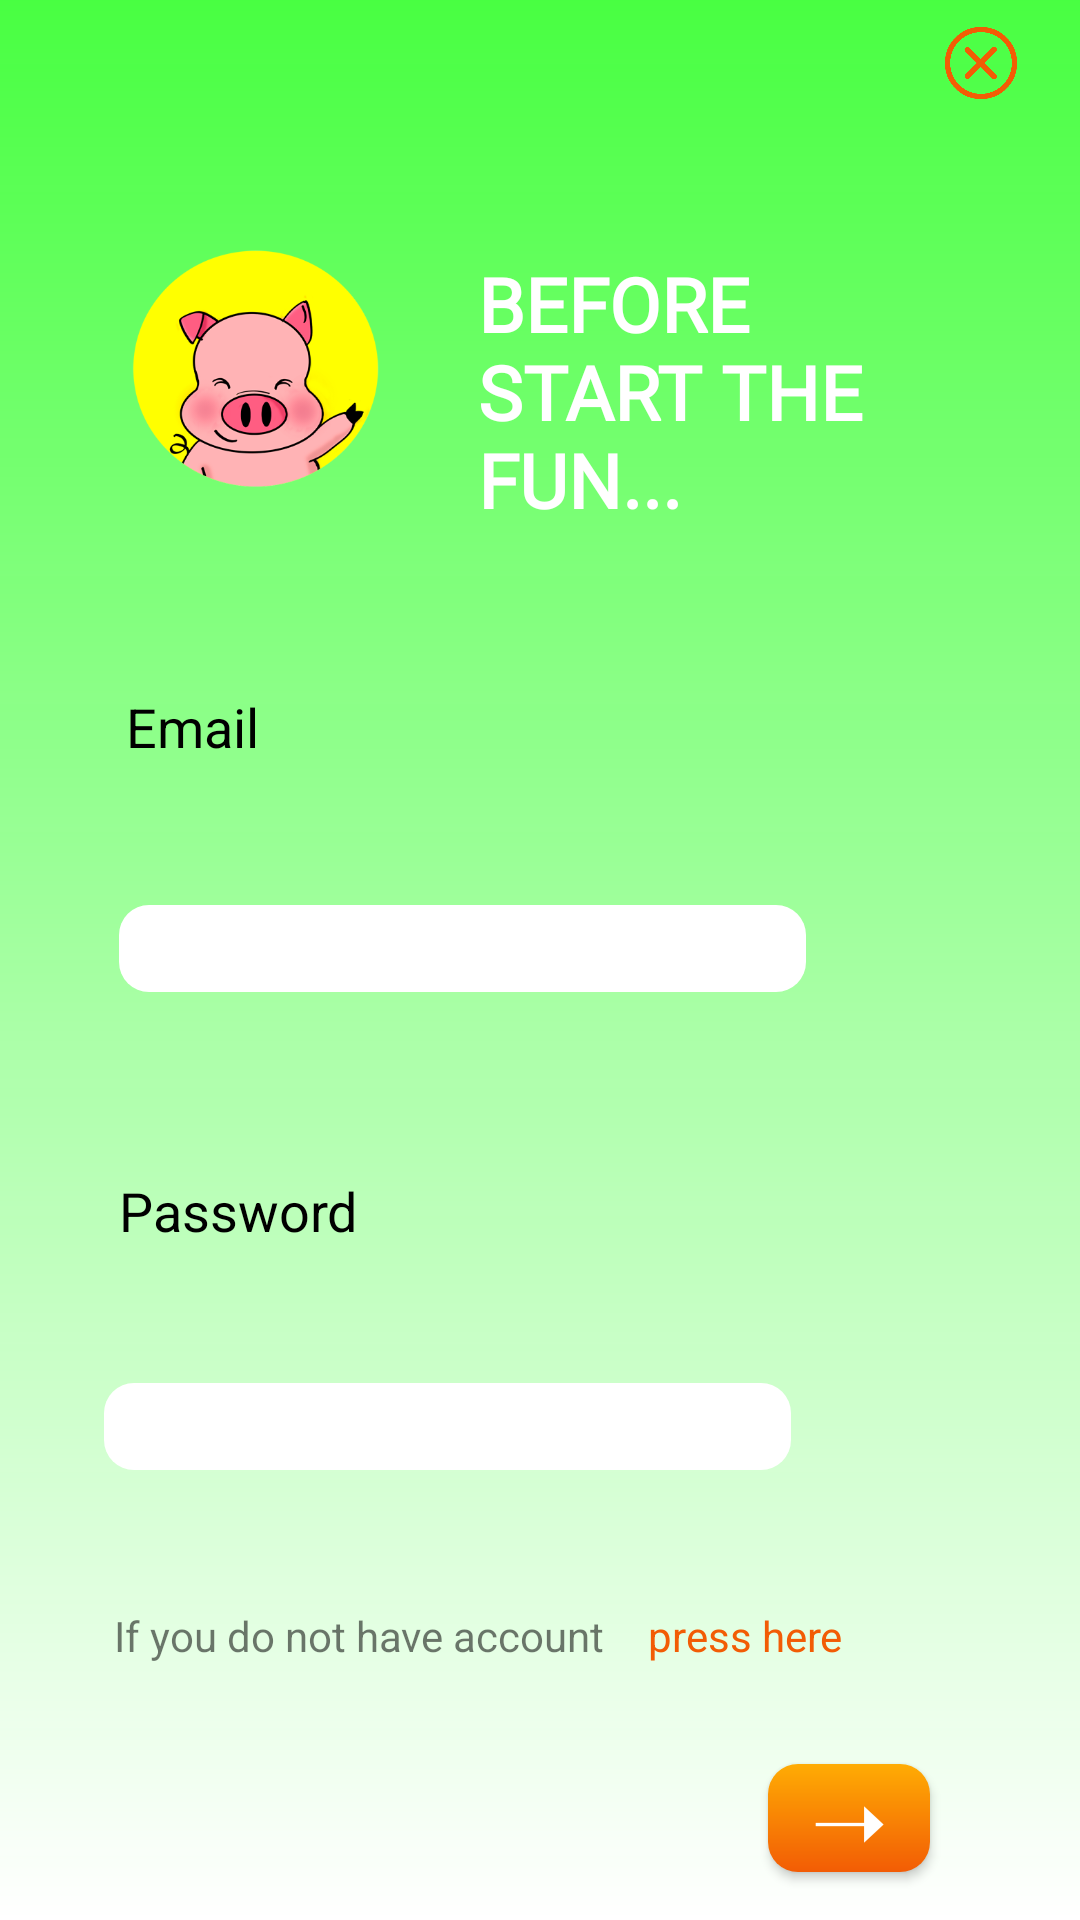

Screen size 1080×1920. Icon name, then its box in pixels as Rect(x1, y1, x2, y2):
close: Rect(945, 27, 1017, 99)
